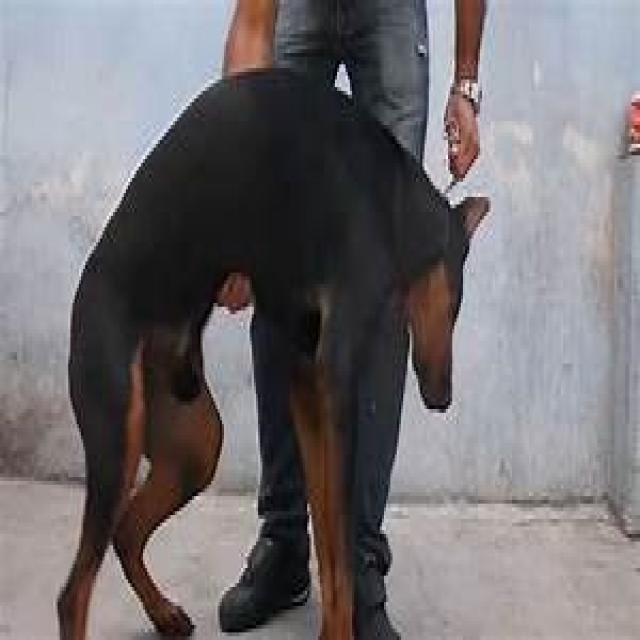dog: (58, 72, 489, 640)
